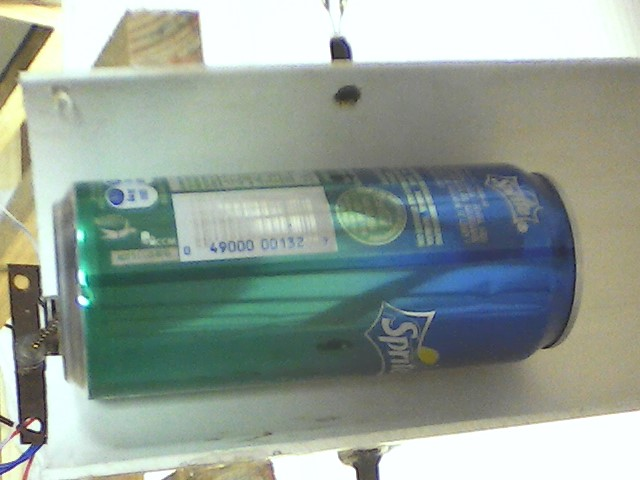lata: (45, 158, 592, 407)
